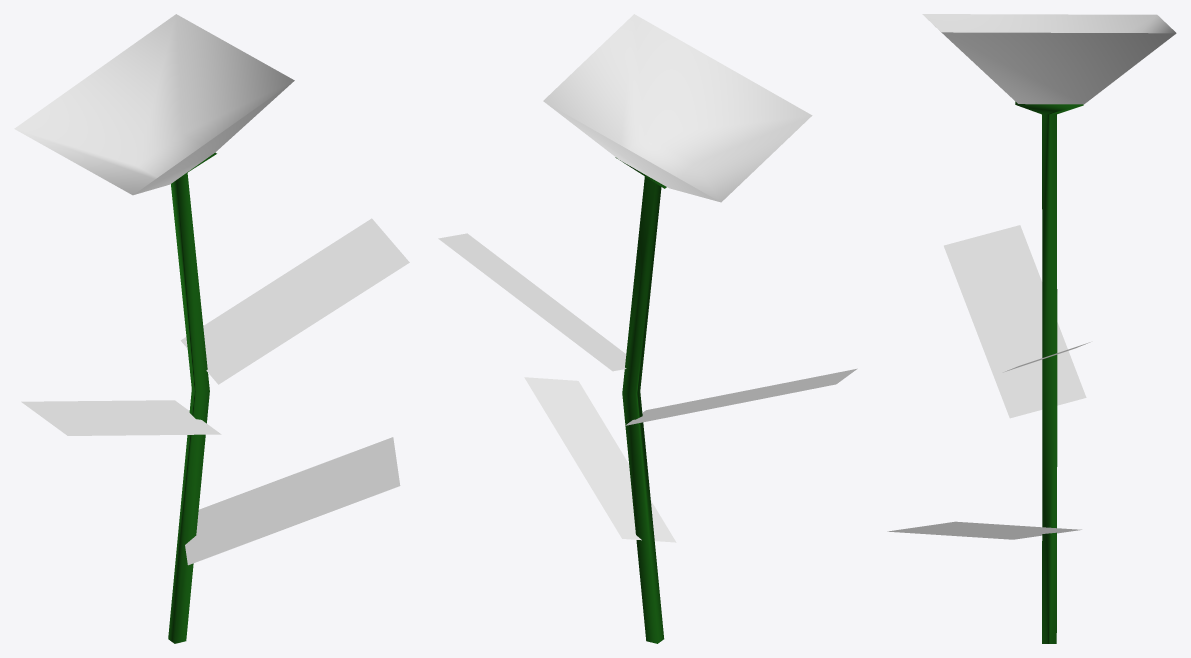
File: flower.fbx
3 renders of one model, left to right at view 1: azimuth 30°, elevation 25°; view 2: azimuth 150°, elevation 25°; view 3: azimuth 270°, elevation 25°, orthographic. The views are drawn at different scales.
Parts seen in each view (by area): view 1: 平面, Plane, Plane.002, Cube, Plane.001; view 2: 平面, Cube, Plane.002, Plane, Plane.001; view 3: 平面, Plane.001, Cube, Plane.002.
Part boxes in pixels (x1,y1,x2,y2): 平面: (14,14,294,195); Plane: (180,218,409,384); Plane.002: (185,437,400,565); Cube: (168,152,216,643); Plane.001: (21,400,221,435); 平面: (543,14,812,202); Cube: (615,157,666,643); Plane.002: (524,377,676,542); Plane: (438,233,626,371); Plane.001: (625,368,857,425); 平面: (922,14,1176,104); Plane.001: (944,225,1086,418); Cube: (1015,101,1083,643); Plane.002: (887,521,1081,539).
Size of the model in its own units: 558 by 811 by 330.
